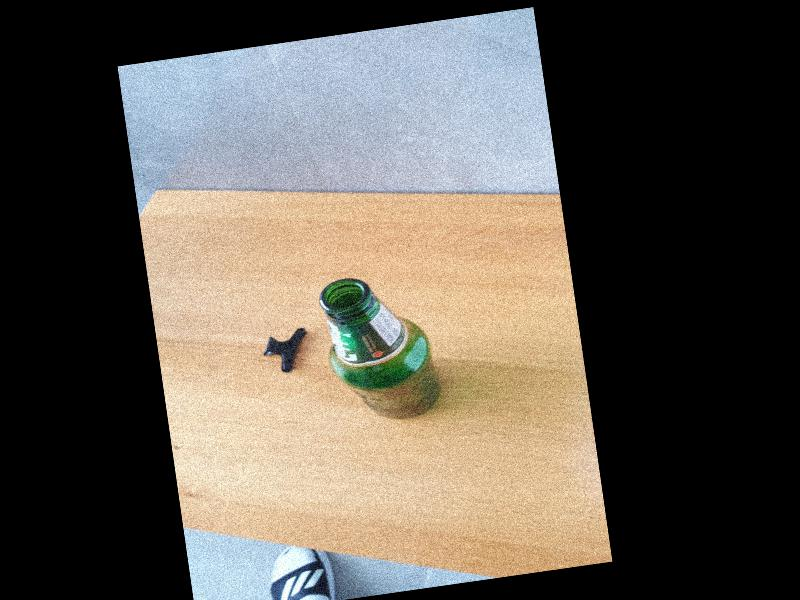Beer: (316, 267, 444, 430)
